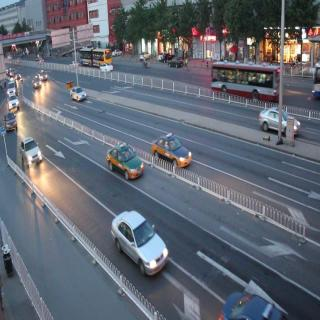BigCar: (208, 62, 296, 103)
Car: (110, 198, 170, 283), (151, 128, 203, 179), (261, 106, 302, 147), (99, 135, 136, 178), (16, 127, 43, 169), (64, 82, 91, 109), (32, 74, 42, 93)
